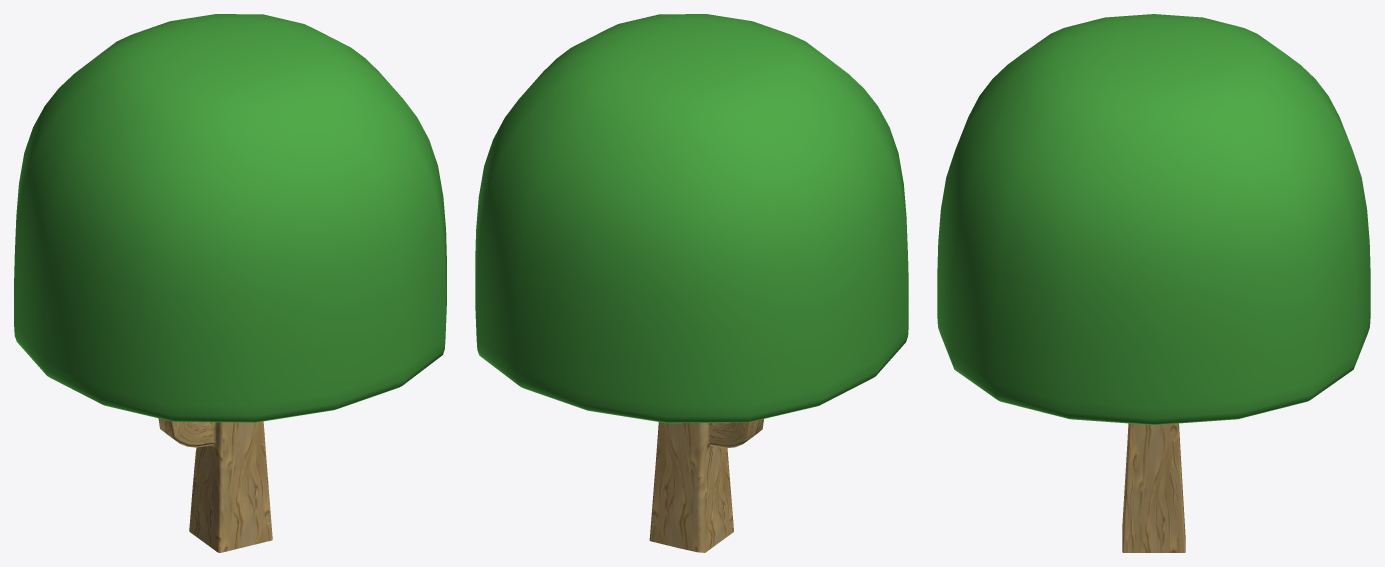
File: env_tree.fbx
The picture shows the model from 3 angles, left to right: view 1: azimuth 30°, elevation 25°; view 2: azimuth 150°, elevation 25°; view 3: azimuth 270°, elevation 25°; orthographic projection.
Parts seen in each view (by area): view 1: env_tree; view 2: env_tree; view 3: env_tree.
Boxes of the visible parts, x1=… form: env_tree: x1=14, y1=14, x2=446, y2=552; env_tree: x1=475, y1=14, x2=908, y2=552; env_tree: x1=937, y1=14, x2=1370, y2=552.
Size of the model in its own units: 52.22 by 65.78 by 52.22.
